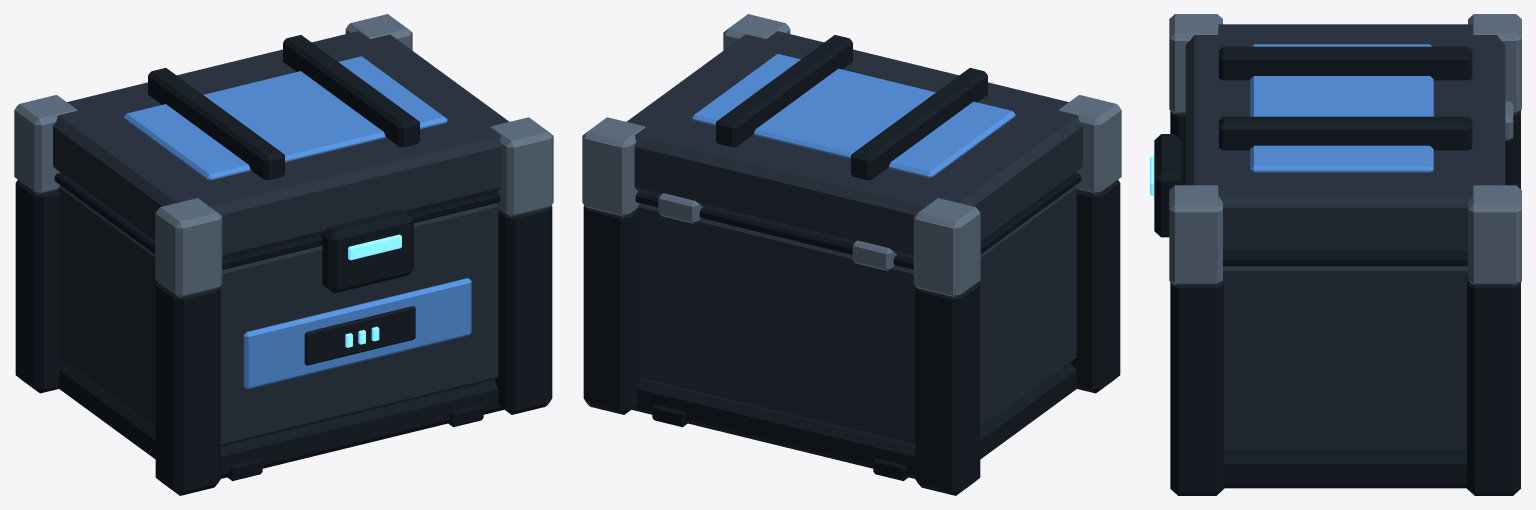
File: RareChest.glb
The picture shows the model from 3 angles, left to right: view 1: azimuth 30°, elevation 25°; view 2: azimuth 150°, elevation 25°; view 3: azimuth 270°, elevation 25°; orthographic projection. The views are drawn at different scales.
Parts seen in each view (by area): view 1: Body, Lid; view 2: Body, Lid; view 3: Lid, Body.
Part boxes in pixels (box(x1,y1,x2,y2)): Body: box(15, 180, 552, 495); Lid: box(14, 14, 553, 297); Body: box(583, 180, 1120, 495); Lid: box(582, 14, 1121, 297); Lid: box(1169, 14, 1521, 284); Body: box(1150, 111, 1520, 495).
Bounding box in the file's own units: 1.29 × 0.9835 × 1.04.
Materials: 1 (1 with a texture image).
